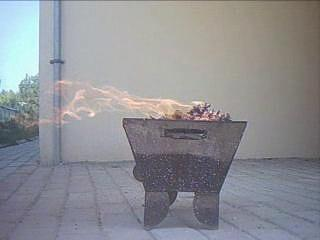fire: (30, 78, 215, 123)
